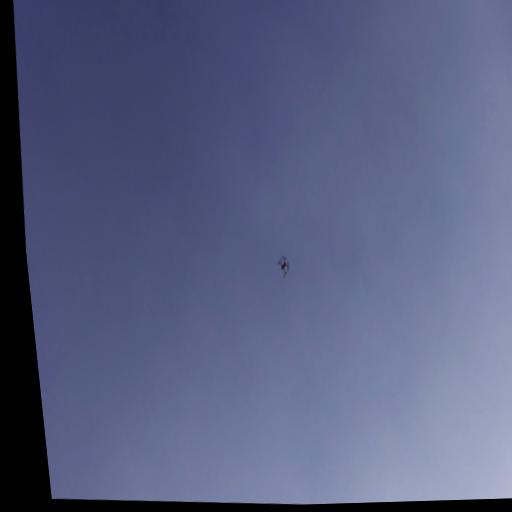drones: (272, 251, 296, 283)
